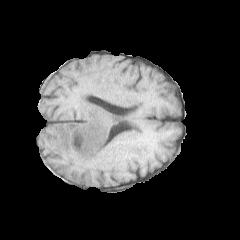glioma: (52, 91, 129, 162)
